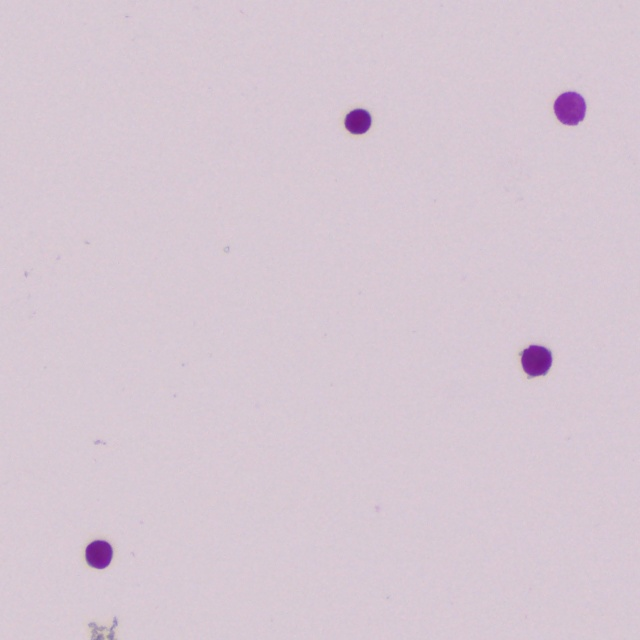viable: (555, 92, 585, 125), (522, 346, 551, 376), (86, 541, 112, 568), (345, 110, 371, 134)
